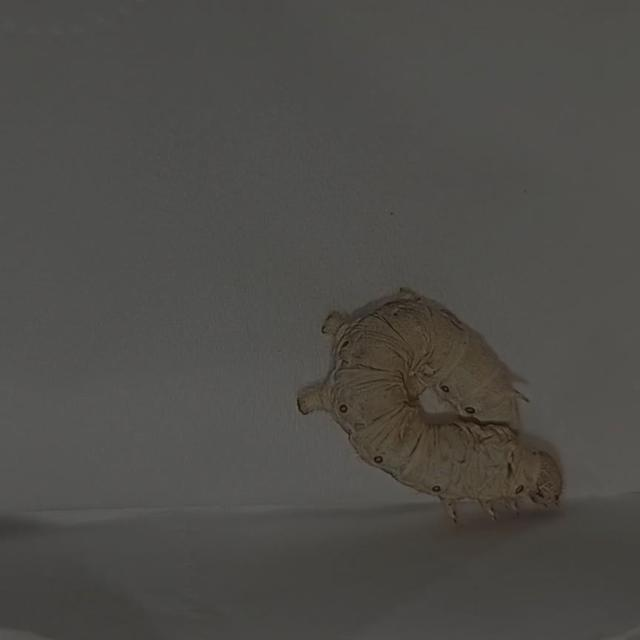Healthy: (273, 261, 580, 540)
